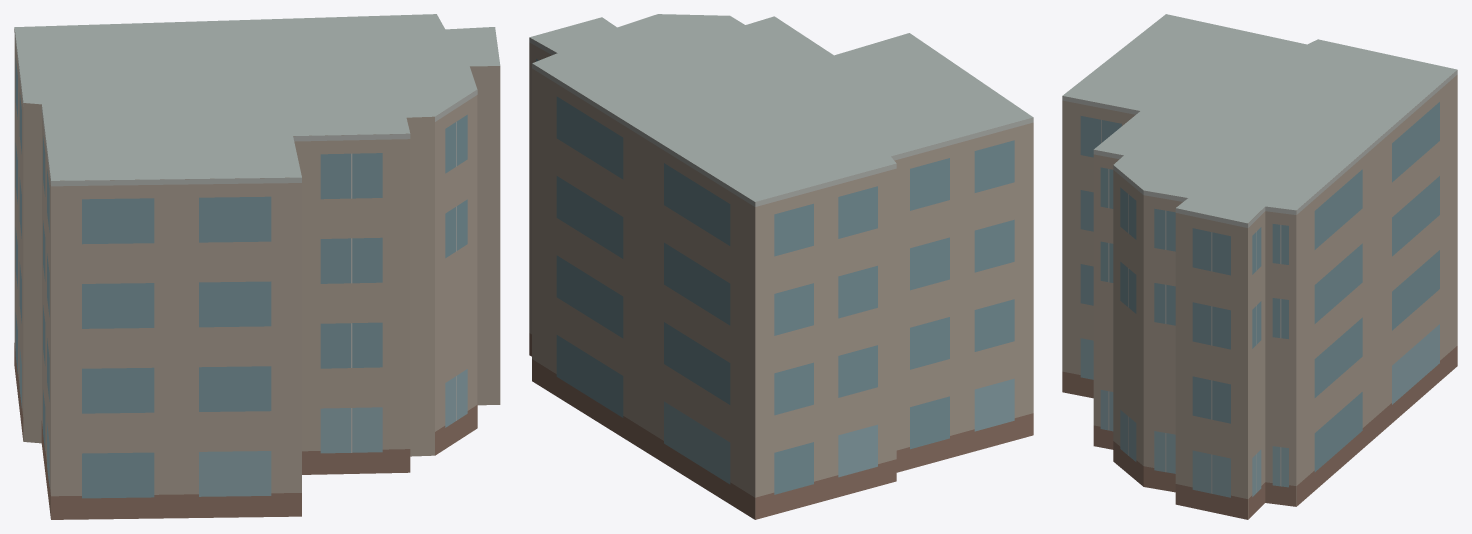
The model's file is survey-upis-32620217.glb.
3 views of the same model, side by side, from view 1: azimuth 30°, elevation 25°; view 2: azimuth 150°, elevation 25°; view 3: azimuth 270°, elevation 25° (orthographic). The views are drawn at different scales.
Visible parts, largest first — view 1: survey-upis-32620217.tmp; view 2: survey-upis-32620217.tmp; view 3: survey-upis-32620217.tmp.
Part boxes in pixels (x1=…): survey-upis-32620217.tmp: x1=14, y1=14, x2=500, y2=519; survey-upis-32620217.tmp: x1=529, y1=14, x2=1033, y2=519; survey-upis-32620217.tmp: x1=1062, y1=14, x2=1457, y2=519.
Bounding box in the file's own units: 23.21 × 15.31 × 18.52.
